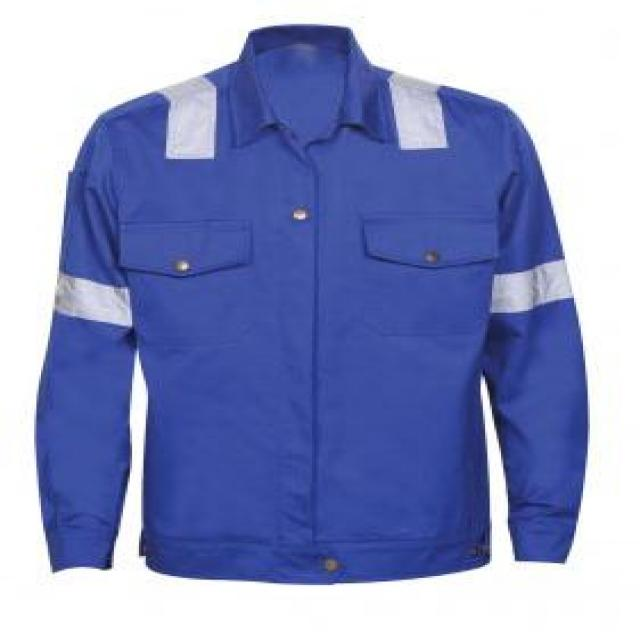Reflective-Jacket: (30, 20, 615, 624)
